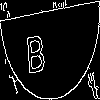B: (25, 25, 46, 74)
